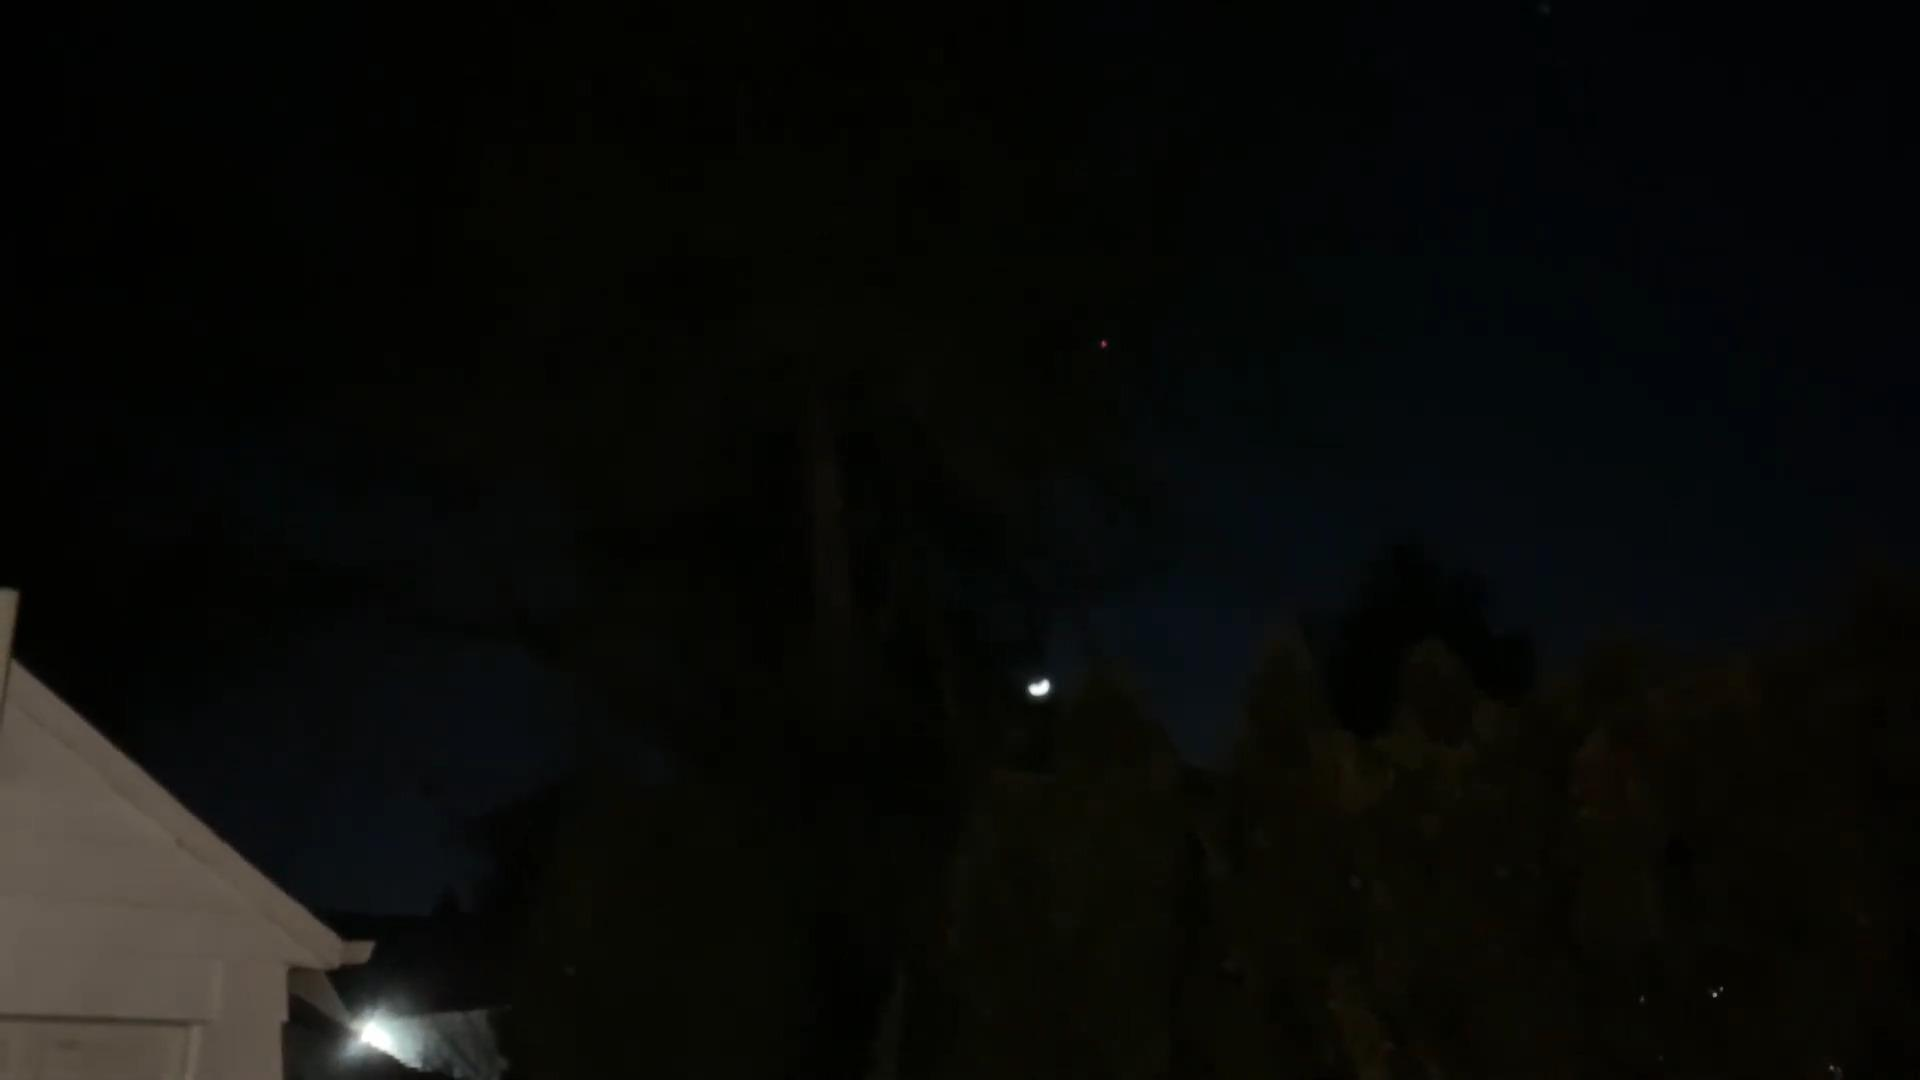Plane: (1075, 332, 1126, 351)
